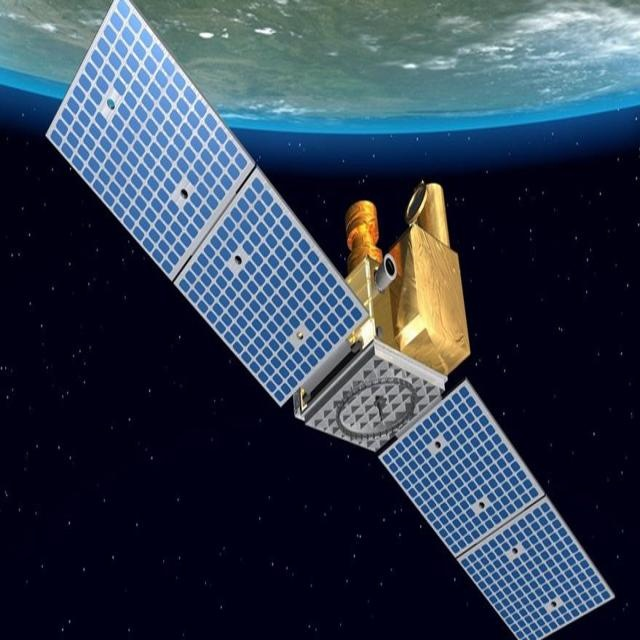satellite: (43, 0, 621, 640)
